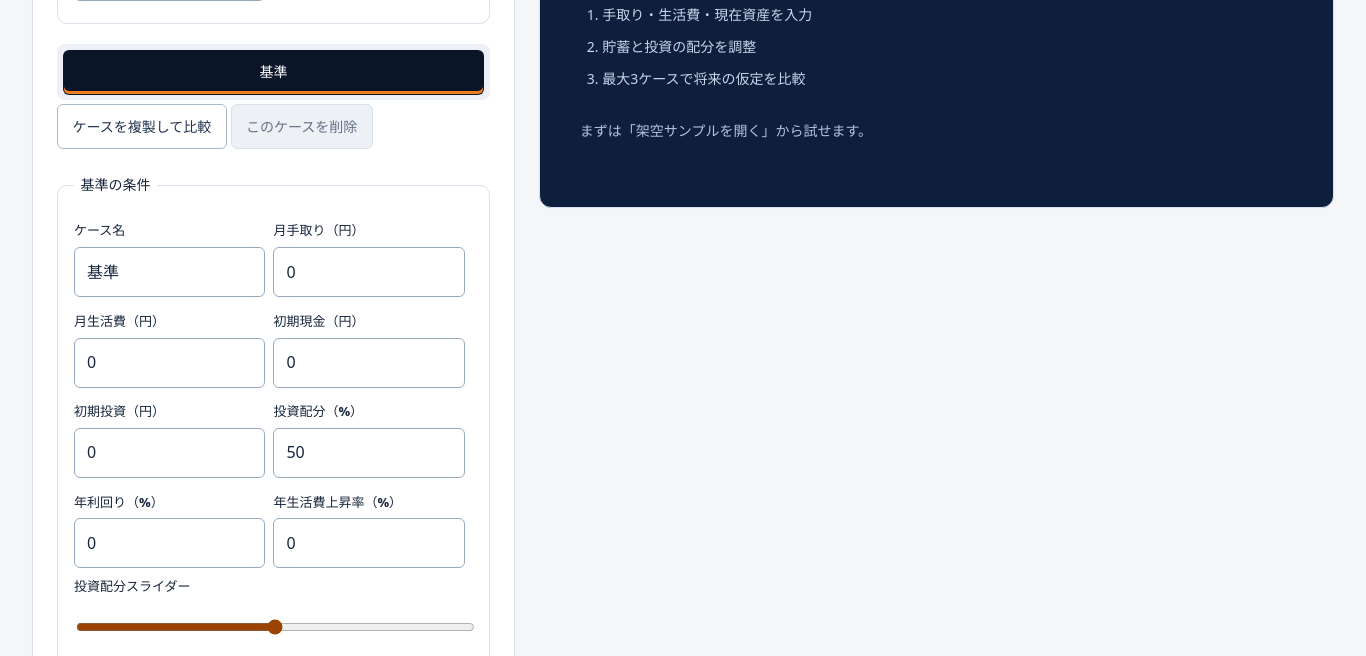
Test: editing and persistence › puts focus on cancel, traps it, and restores invoking button
(page scrolled)
Replace the text in the number field labelled "月手取り（円）" with "123" at (369, 272), box 273,247 -> 465,297
(page scrolled)
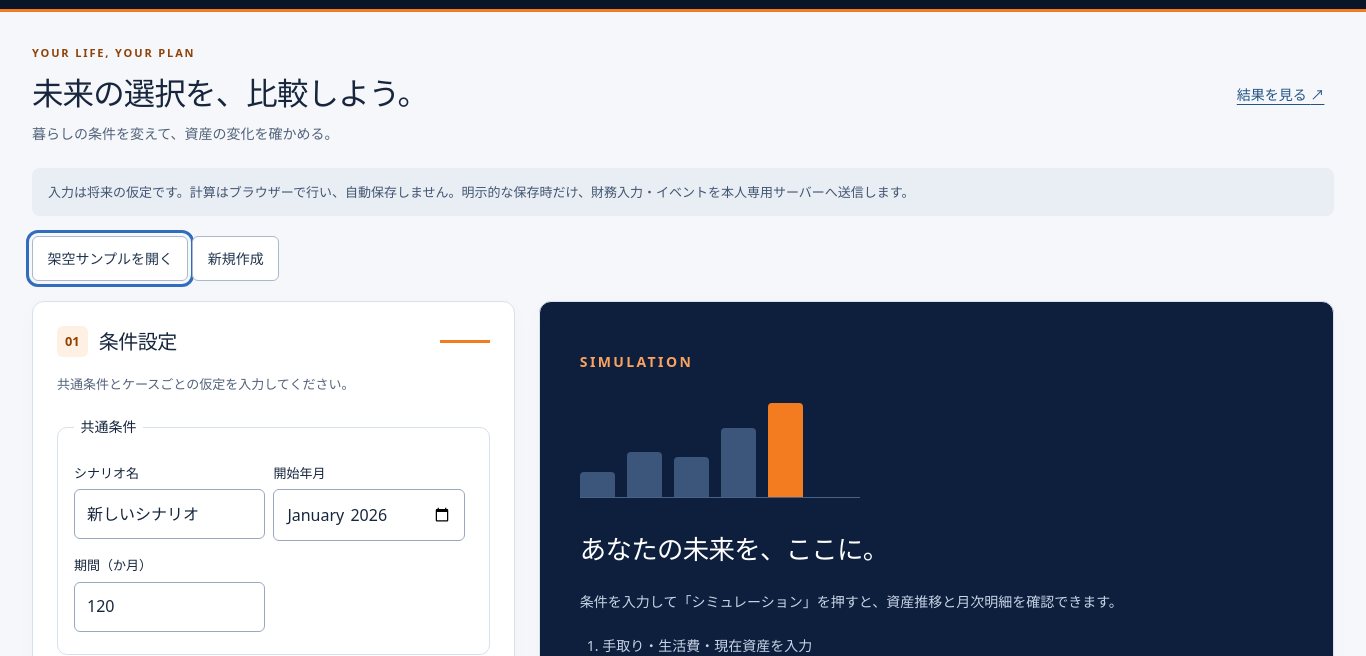
Click the button "架空サンプルを開く".
click(110, 258)  # box 32,236 -> 188,281
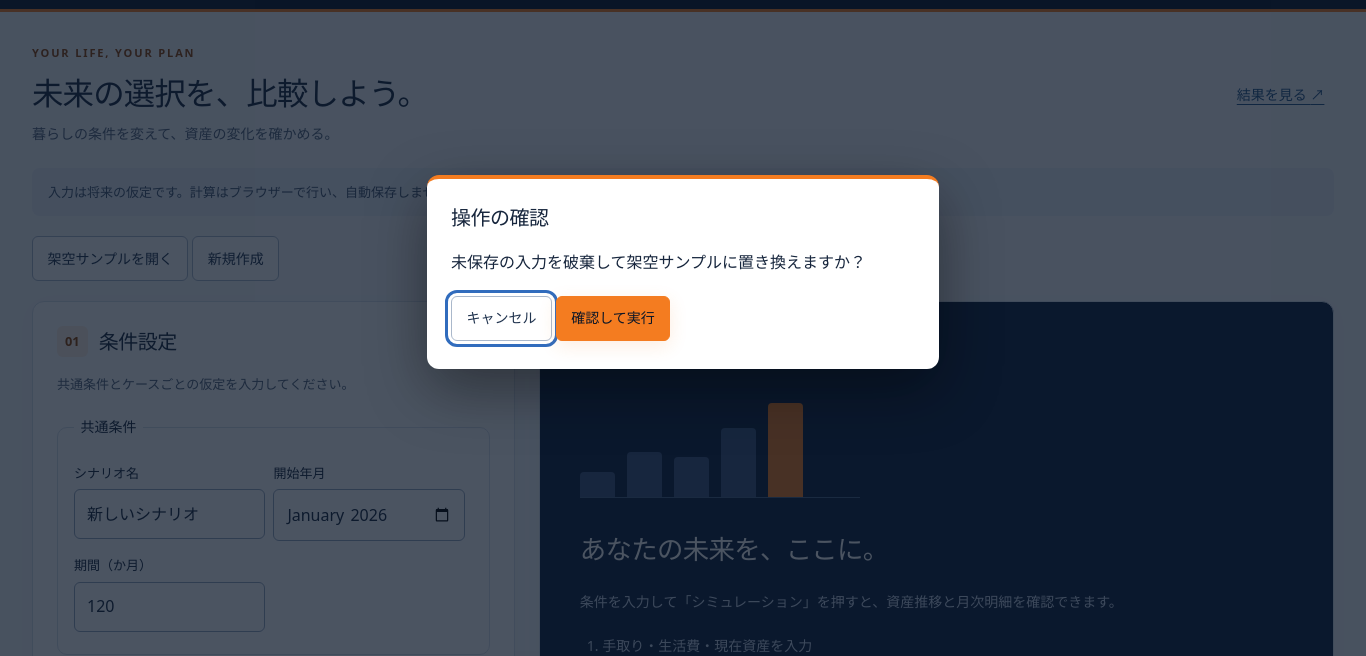
Press Tab in the button "キャンセル", box 451,296 -> 552,341
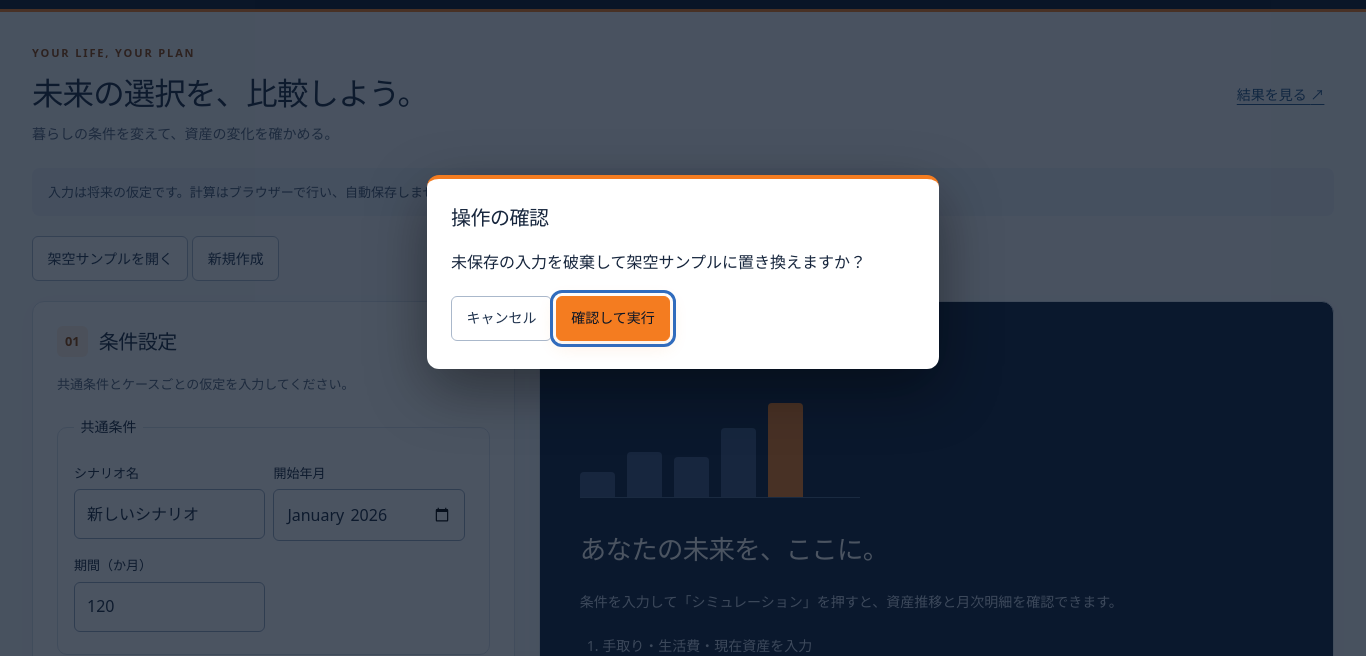
Press Tab in the button "確認して実行", box 556,296 -> 670,341
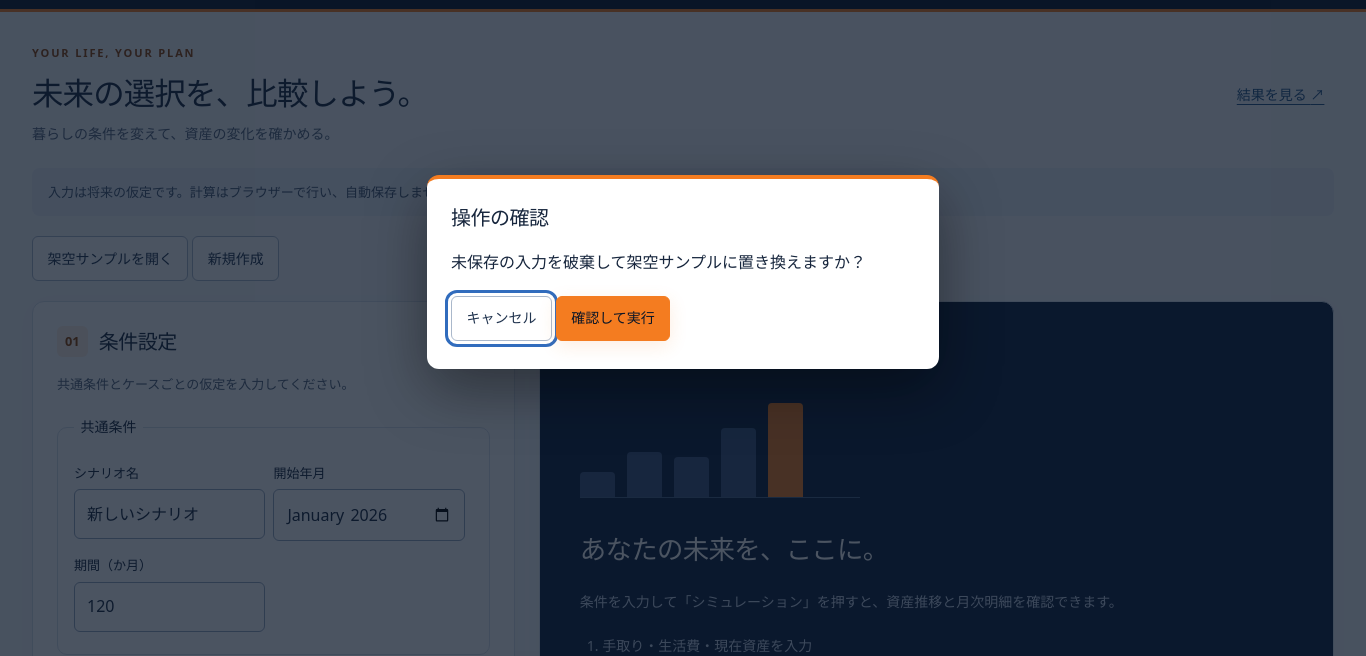
Press Escape in the button "キャンセル", box 451,296 -> 552,341
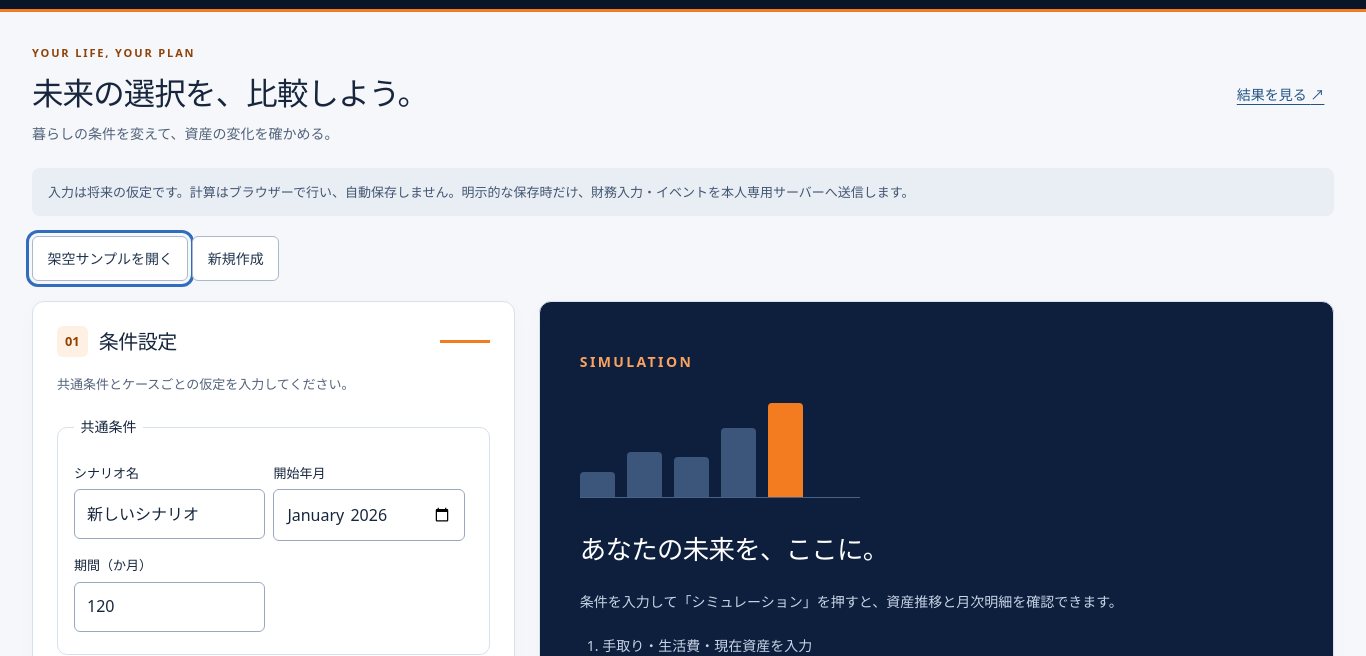
Check: the dialog is gone
